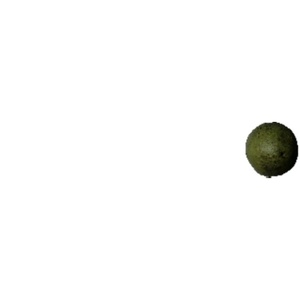abacate: (240, 120, 299, 180)
